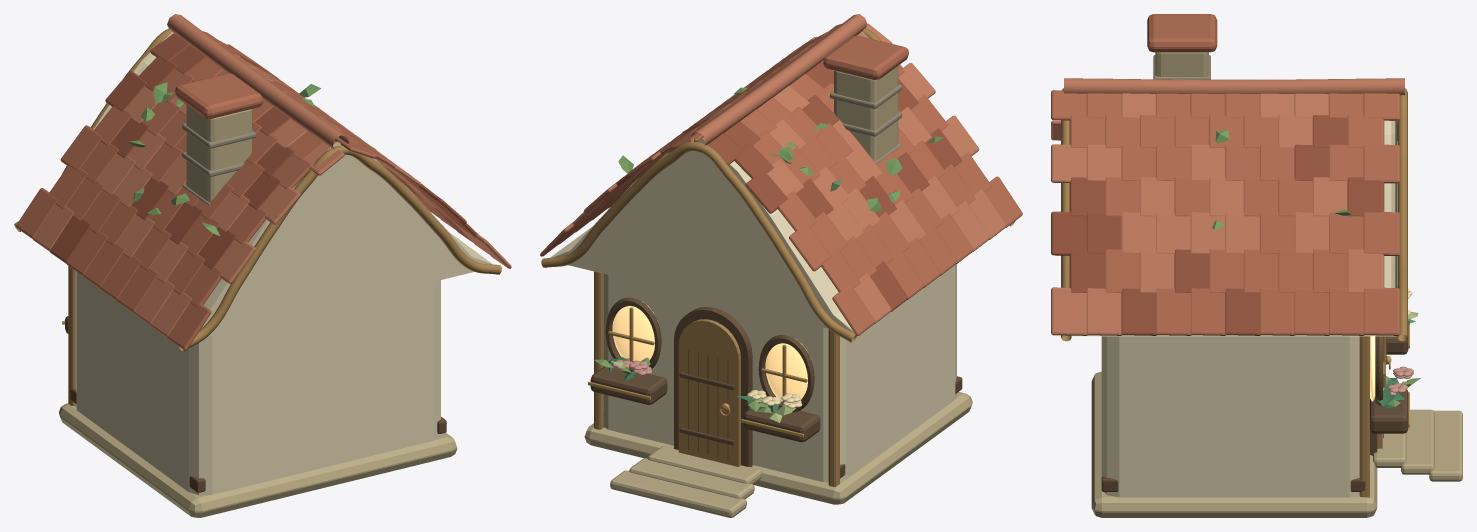
Rendered from cottage.glb.
3 renders of one model, left to right at view 1: azimuth 30°, elevation 25°; view 2: azimuth 150°, elevation 25°; view 3: azimuth 270°, elevation 25°, orthographic. The views are drawn at different scales.
Parts seen in each view (by area): view 1: cottage__Warm chalk plaster, cottage__Clay tile, cottage__Sunlit clay, cottage__Honey limestone, cottage__Old clay, cottage__Oiled ash, cottage__Leaf sage, cottage__Old stone edge; view 2: cottage__Warm chalk plaster, cottage__Clay tile, cottage__Oiled ash, cottage__Honey limestone, cottage__Sunlit clay, cottage__Carved walnut, cottage__Old clay, cottage__Window lamplight, cottage__Leaf sage, cottage__Old stone edge, cottage__Warm aged brass, cottage__Cream petals; view 3: cottage__Clay tile, cottage__Warm chalk plaster, cottage__Sunlit clay, cottage__Honey limestone, cottage__Old clay, cottage__Oiled ash, cottage__Carved walnut, cottage__Leaf sage.
Boxes of the visible parts, <box> form: cottage__Warm chalk plaster: <box>75,32,492,495</box>; cottage__Clay tile: <box>16,31,455,350</box>; cottage__Sunlit clay: <box>33,14,511,337</box>; cottage__Honey limestone: <box>59,104,457,517</box>; cottage__Old clay: <box>49,33,478,268</box>; cottage__Oiled ash: <box>14,28,501,405</box>; cottage__Leaf sage: <box>129,82,375,235</box>; cottage__Old stone edge: <box>182,123,255,205</box>; cottage__Warm chalk plaster: <box>550,31,956,482</box>; cottage__Clay tile: <box>540,24,1022,335</box>; cottage__Oiled ash: <box>541,28,1015,486</box>; cottage__Honey limestone: <box>584,66,972,517</box>; cottage__Sunlit clay: <box>572,14,1006,323</box>; cottage__Carved walnut: <box>590,297,962,478</box>; cottage__Old clay: <box>608,58,962,311</box>; cottage__Window lamplight: <box>612,302,810,401</box>; cottage__Leaf sage: <box>593,87,943,412</box>; cottage__Old stone edge: <box>830,84,901,164</box>; cottage__Warm aged brass: <box>588,381,803,437</box>; cottage__Cream petals: <box>747,390,802,408</box>; cottage__Clay tile: <box>1051,14,1400,335</box>; cottage__Warm chalk plaster: <box>1072,120,1396,497</box>; cottage__Sunlit clay: <box>1051,78,1404,335</box>; cottage__Honey limestone: <box>1091,52,1462,517</box>; cottage__Old clay: <box>1051,115,1384,335</box>; cottage__Oiled ash: <box>1061,88,1407,497</box>; cottage__Carved walnut: <box>1101,325,1408,491</box>; cottage__Leaf sage: <box>1212,130,1420,406</box>.
Size of the model in its own units: 4.84 by 5.43 by 5.12.
